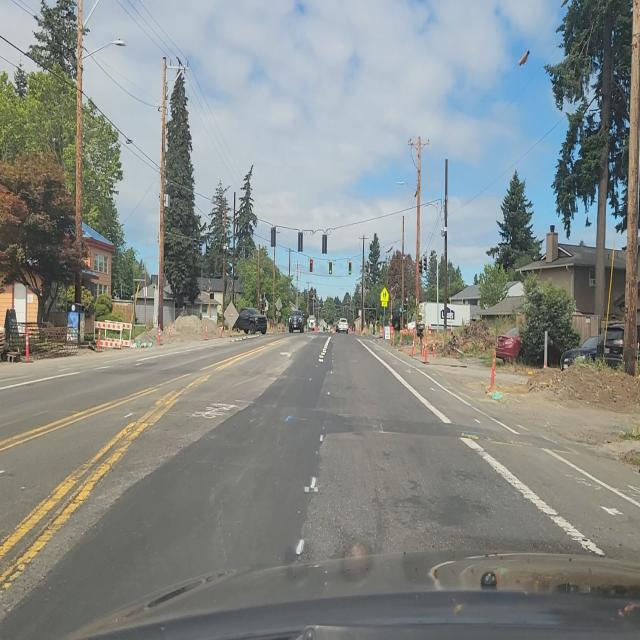car: (559, 323, 640, 371), (493, 327, 556, 367), (234, 307, 266, 335), (288, 310, 306, 333), (338, 318, 348, 334), (308, 316, 316, 331)
crosswalk-sign: (380, 287, 389, 307)
delineator: (489, 349, 497, 393), (25, 329, 30, 361), (422, 336, 428, 362), (410, 332, 416, 357), (96, 332, 102, 352), (398, 331, 403, 351), (432, 336, 436, 357), (158, 325, 162, 346), (392, 327, 396, 346), (167, 324, 171, 342), (220, 324, 224, 338), (205, 322, 208, 340), (228, 325, 231, 337), (316, 325, 319, 332)
